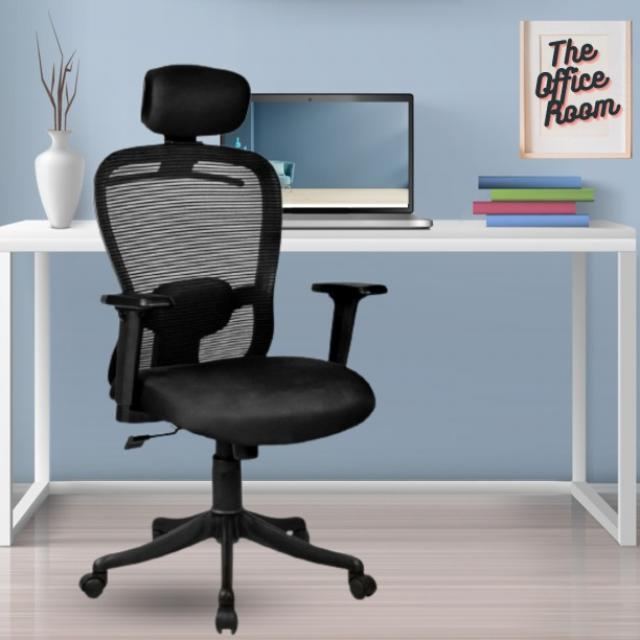chair: (77, 64, 379, 631)
